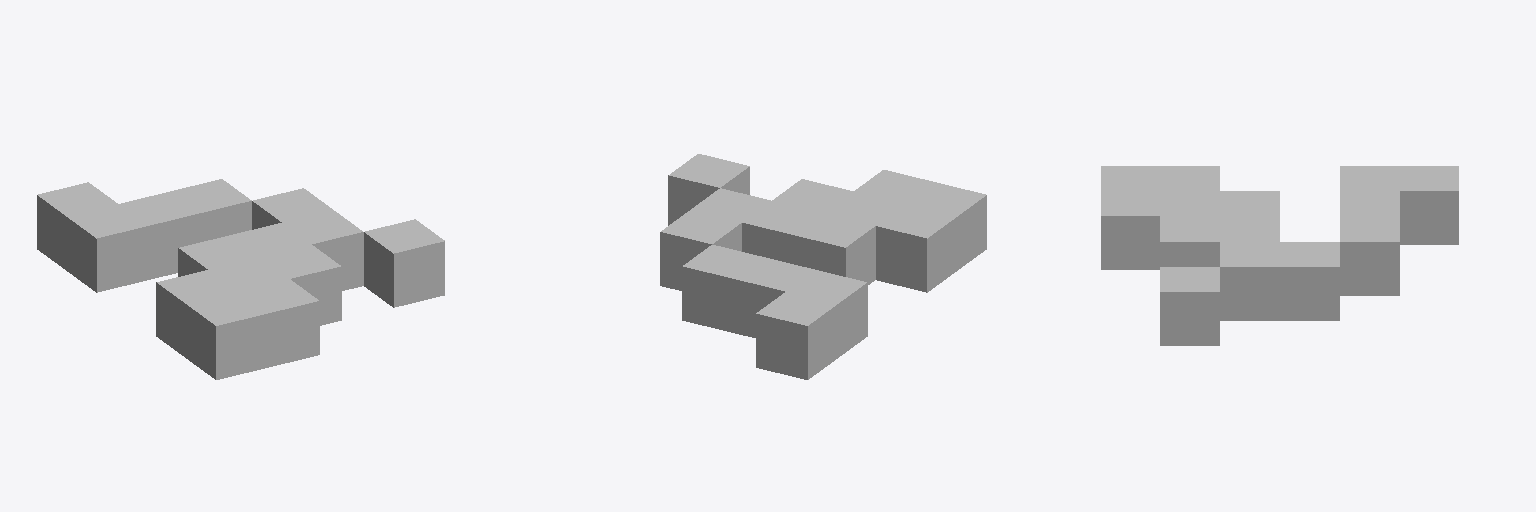
File: Enemy1-1.obj
3 renders of one model, left to right at view 1: azimuth 30°, elevation 25°; view 2: azimuth 150°, elevation 25°; view 3: azimuth 270°, elevation 25°, orthographic.
Visible parts, largest first — view 1: object 1; view 2: object 1; view 3: object 1.
Part boxes in pixels (bbox=[...]): object 1: bbox=[37, 179, 444, 379]; object 1: bbox=[660, 154, 986, 379]; object 1: bbox=[1101, 166, 1458, 345].
Bounding box in the file's own units: 0.5 × 0.1 × 0.6.